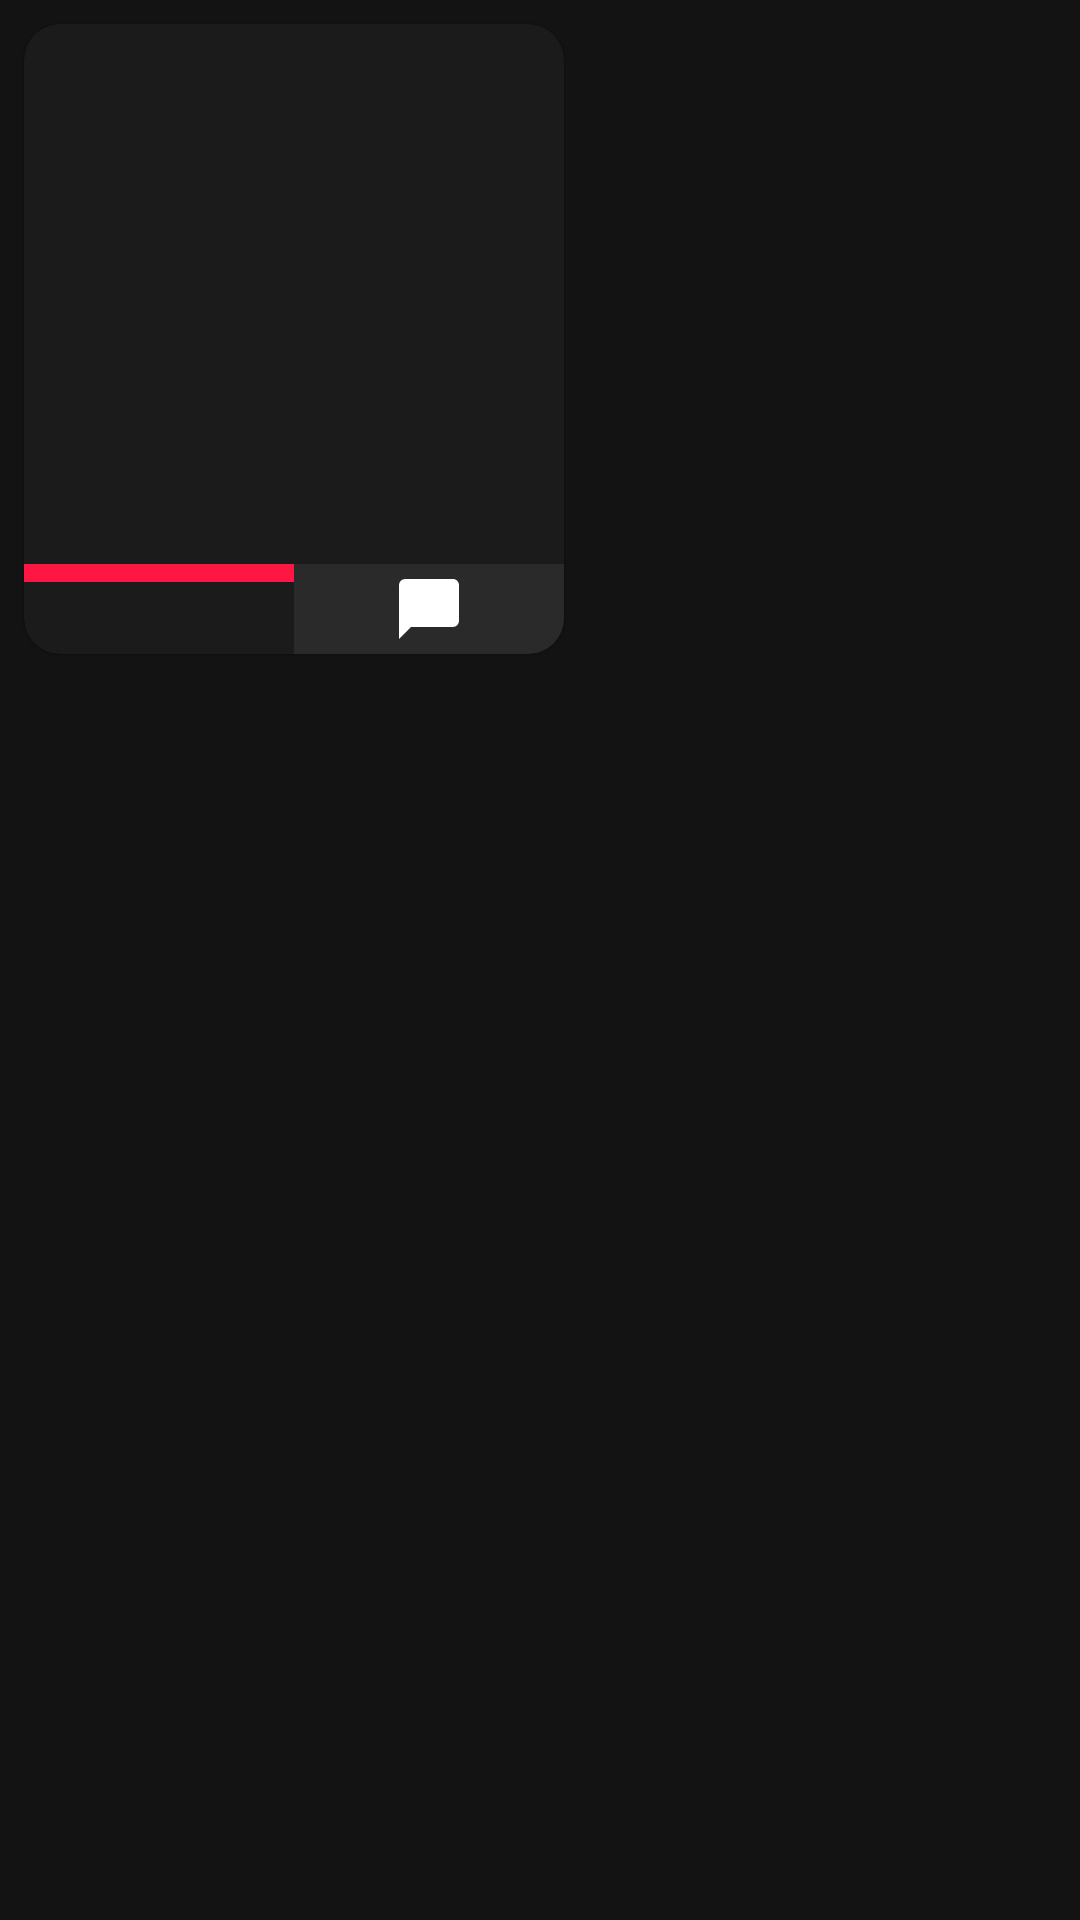

Icons on this 1080x1920 Android screen, each with its box as region(x1, y1, x2, y2):
Перейти в чат: region(399, 579, 459, 639)
